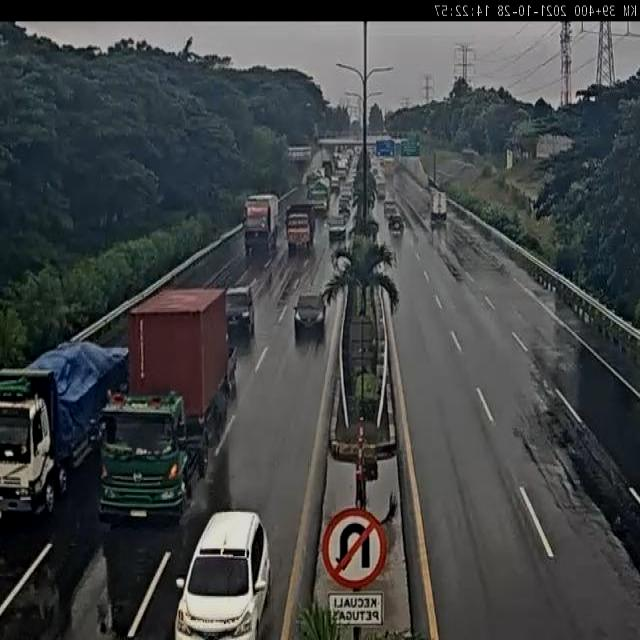Car: (168, 508, 274, 640), (292, 288, 328, 334), (226, 284, 256, 334), (327, 214, 347, 242), (387, 213, 404, 236), (382, 198, 396, 218), (337, 197, 352, 215)
Truck: (96, 285, 236, 520), (1, 337, 134, 515), (242, 194, 281, 254), (285, 202, 315, 251), (308, 176, 331, 214), (431, 188, 448, 222), (375, 179, 387, 200), (336, 160, 348, 180), (382, 159, 393, 178), (330, 175, 340, 192)
